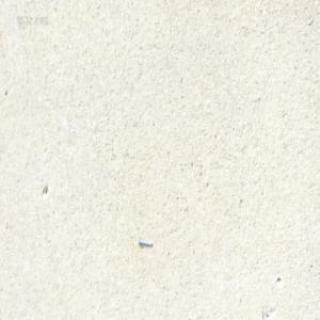Nailtrack_idkeyframe: (136, 236, 152, 246)
